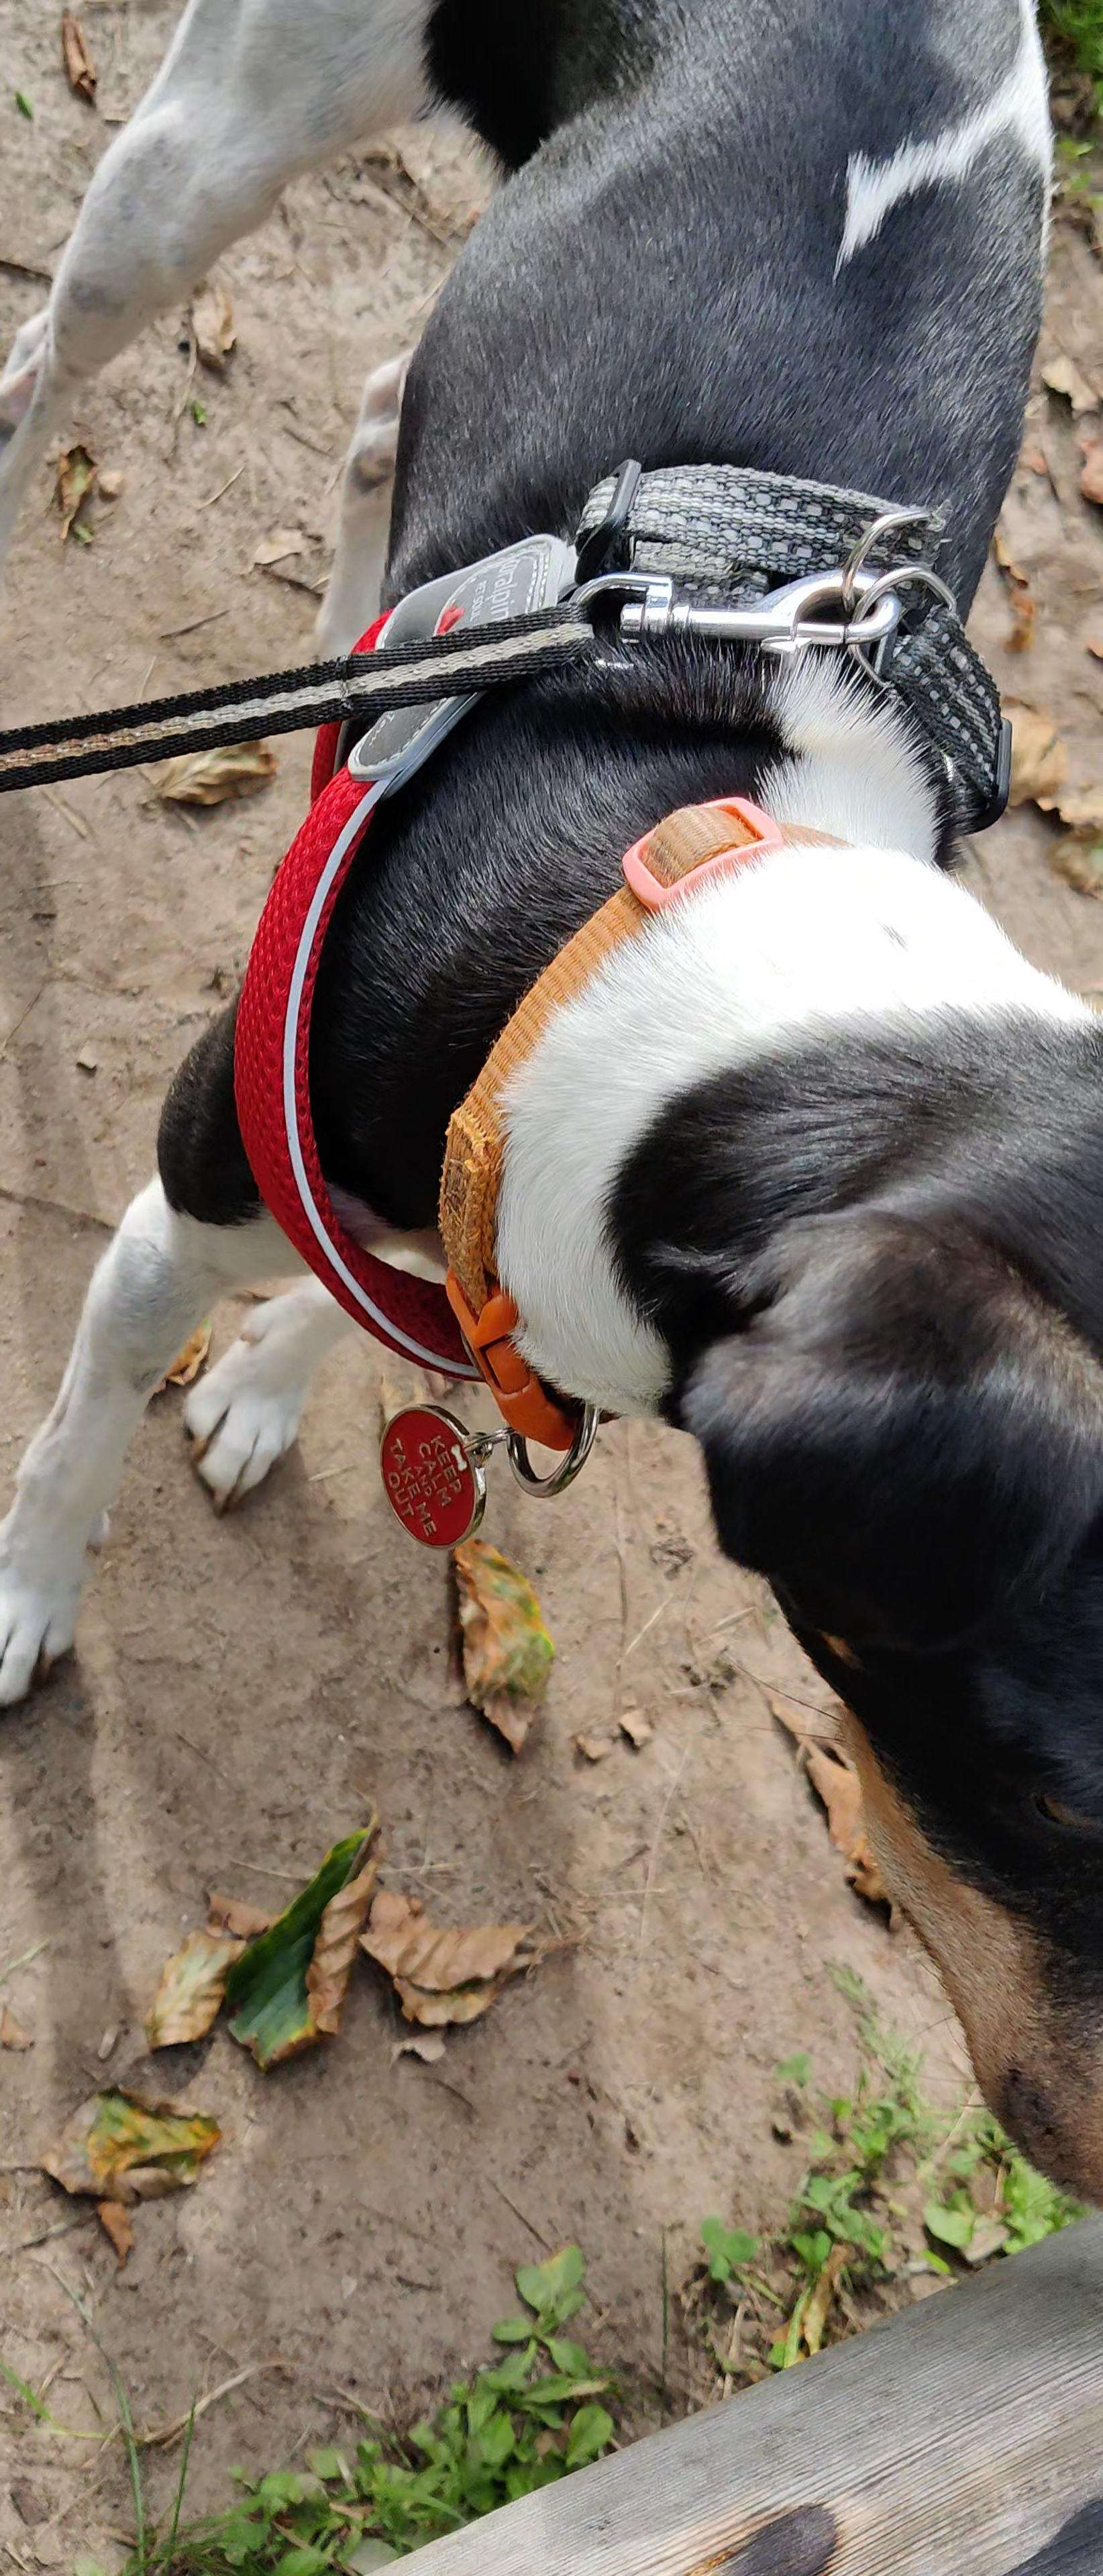Dog: (0, 0, 1103, 2238)
